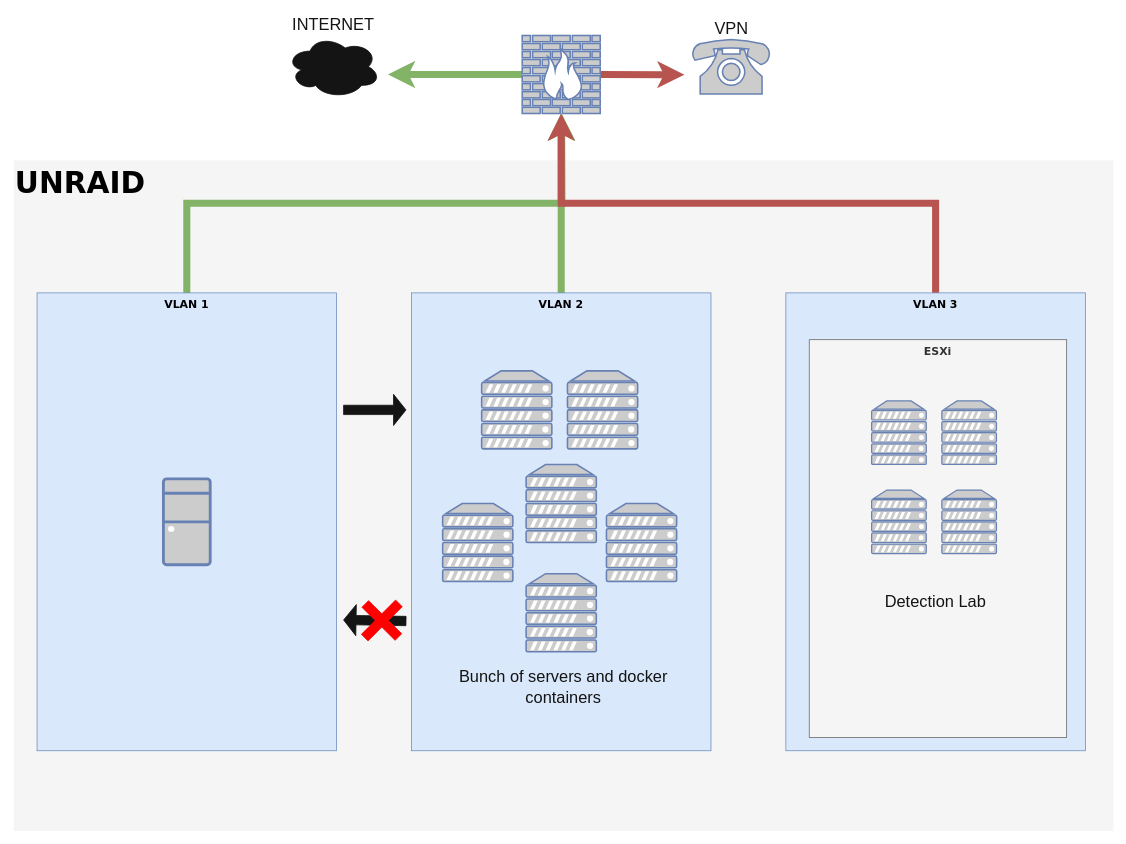
Image size: 1126x844. Some labels were removed from this diagram. Each missing label, with the centre of its shape:
Daily Driver: the point at 186,521
ROUTER: the point at 561,74
